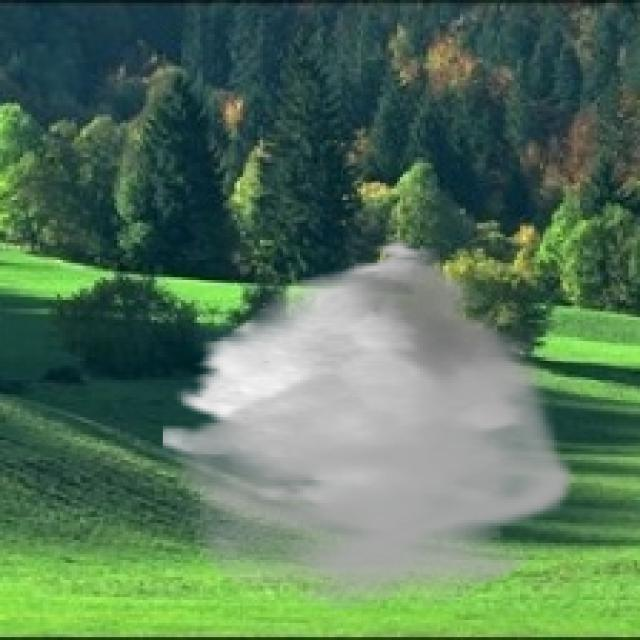smoke: (163, 237, 580, 612)
